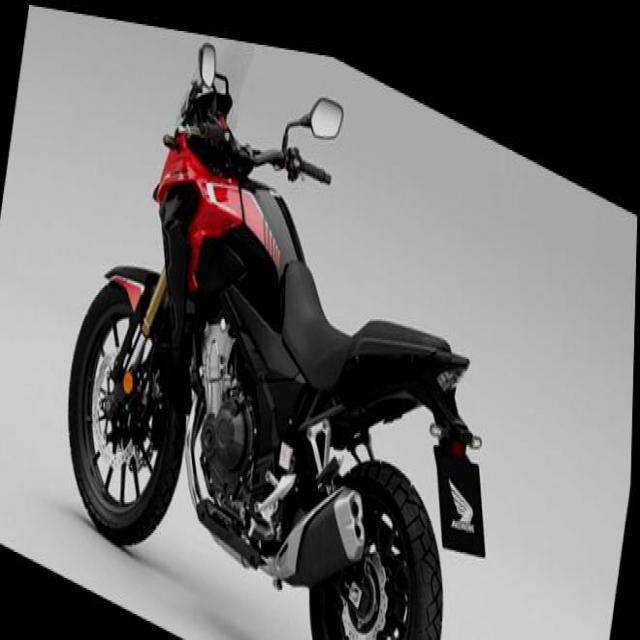CB500X: (44, 7, 518, 638)
